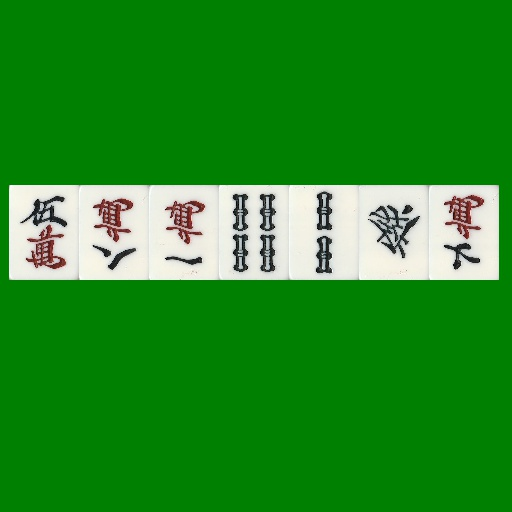1m: (149, 185, 219, 280)
2s: (289, 185, 359, 280)
4s: (219, 185, 289, 280)
5m: (9, 185, 79, 280)
7m: (429, 185, 499, 280)
8m: (79, 185, 149, 280)
hatsu: (359, 185, 429, 280)
